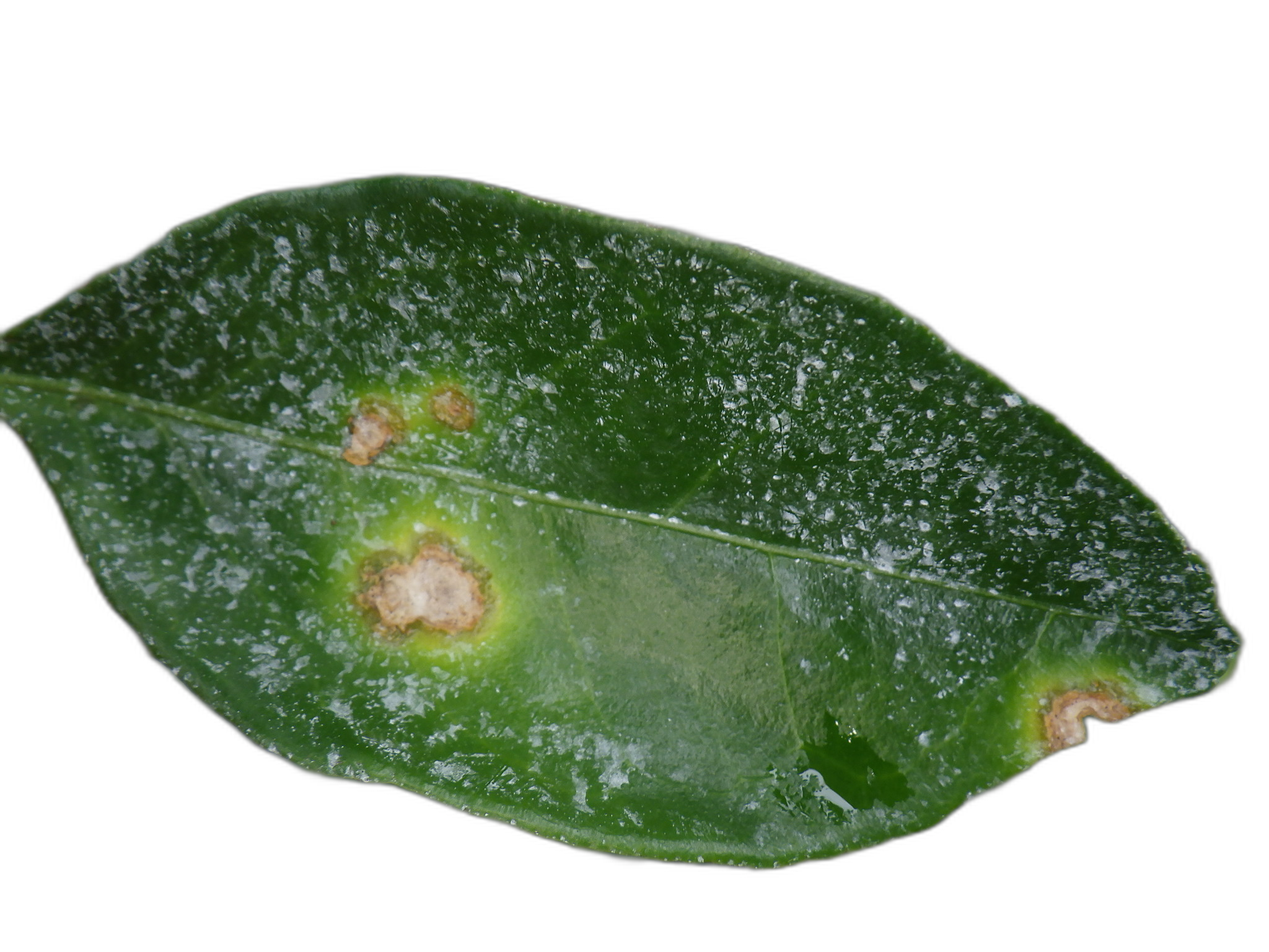Canker: (356, 533, 491, 640), (1041, 685, 1134, 752), (343, 410, 395, 464), (428, 387, 475, 432)
